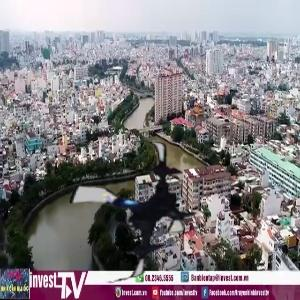drone: (58, 137, 207, 286)
